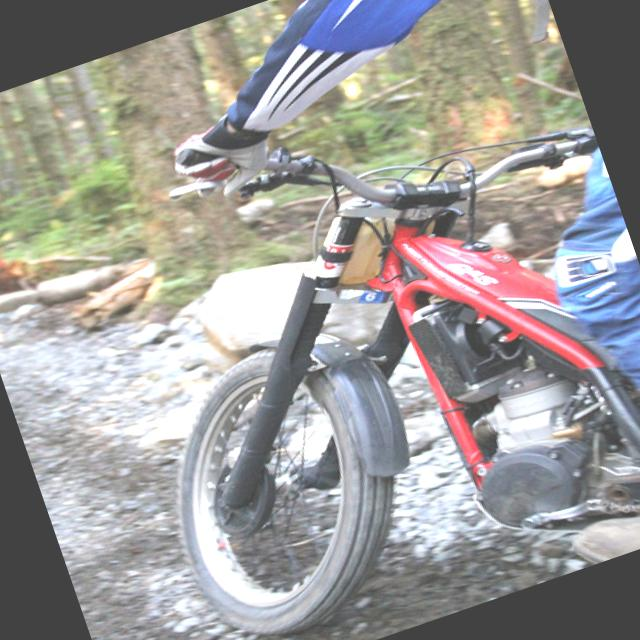Vehicle: (68, 56, 640, 640)
